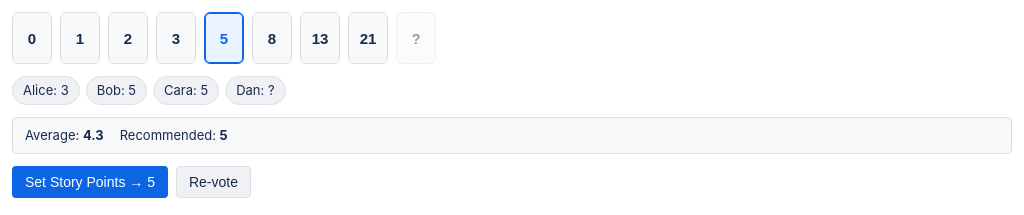
Test: ScrumPokerApp revealed-state controls, consensus override, write-back, and clipboard fallback (R13) › renders "<Display Name>: <card>" chips, formatted Average and Recommended, disables "?", and updates targetScore override (including 0)
Expected: the elements with test id "participant-chip" read "Alice: 3", "Bob: 5", "Cara: 5", "Dan: ?", in this order, [12,76,80,105]; [86,76,147,105]; [153,76,219,105]; [225,76,286,105]
Expected: the element with test id "average-score" reads "Average: 4.3", [25,126,104,145]
// Click override card 13
Step 1. Click the button with test id "poker-card-13" → [320, 38], box [300,12,340,64]
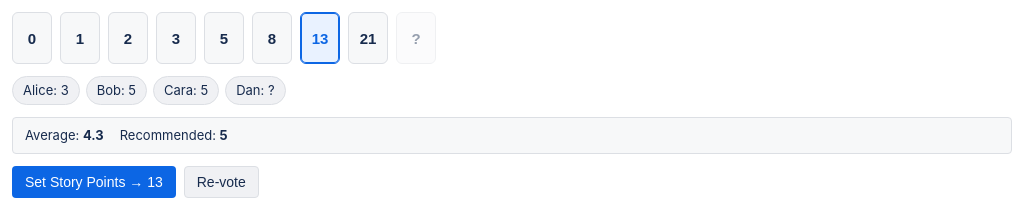
Expected: the element with test id "recommended-score" reads "Recommended: 5", [120,126,228,145]
Result: the button with test id "apply-story-points-button" reads "Set Story Points → 13" at [12,166,176,198]
// Click override card 0 (zero-value fidelity check)
Step 2. Click the button with test id "poker-card-0" → [32, 38], box [12,12,52,64]
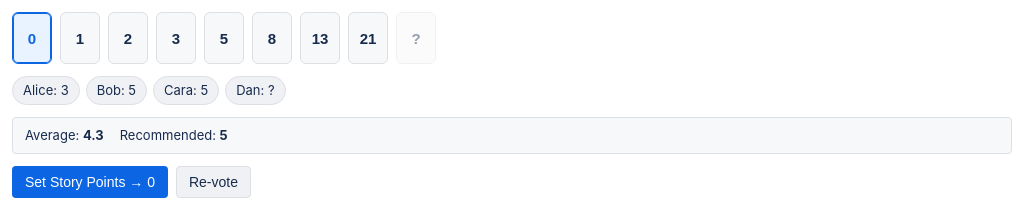
Result: the button with test id "apply-story-points-button" reads "Set Story Points → 0" at [12,166,168,198]
